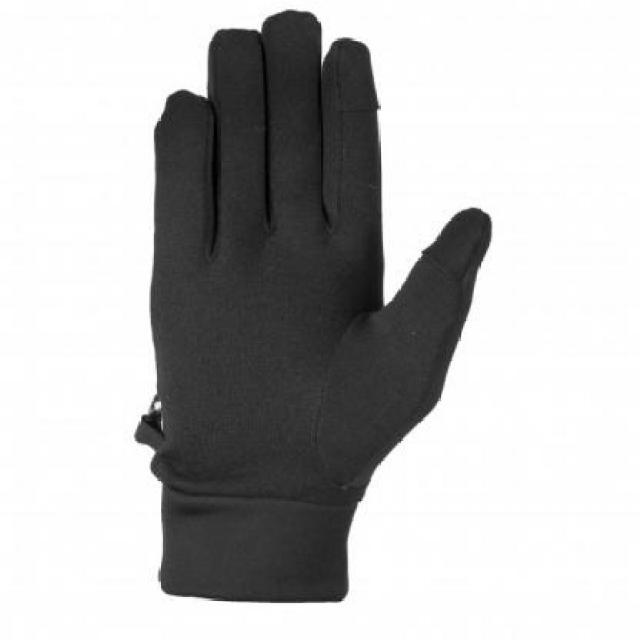Gloves: (122, 10, 491, 602)
